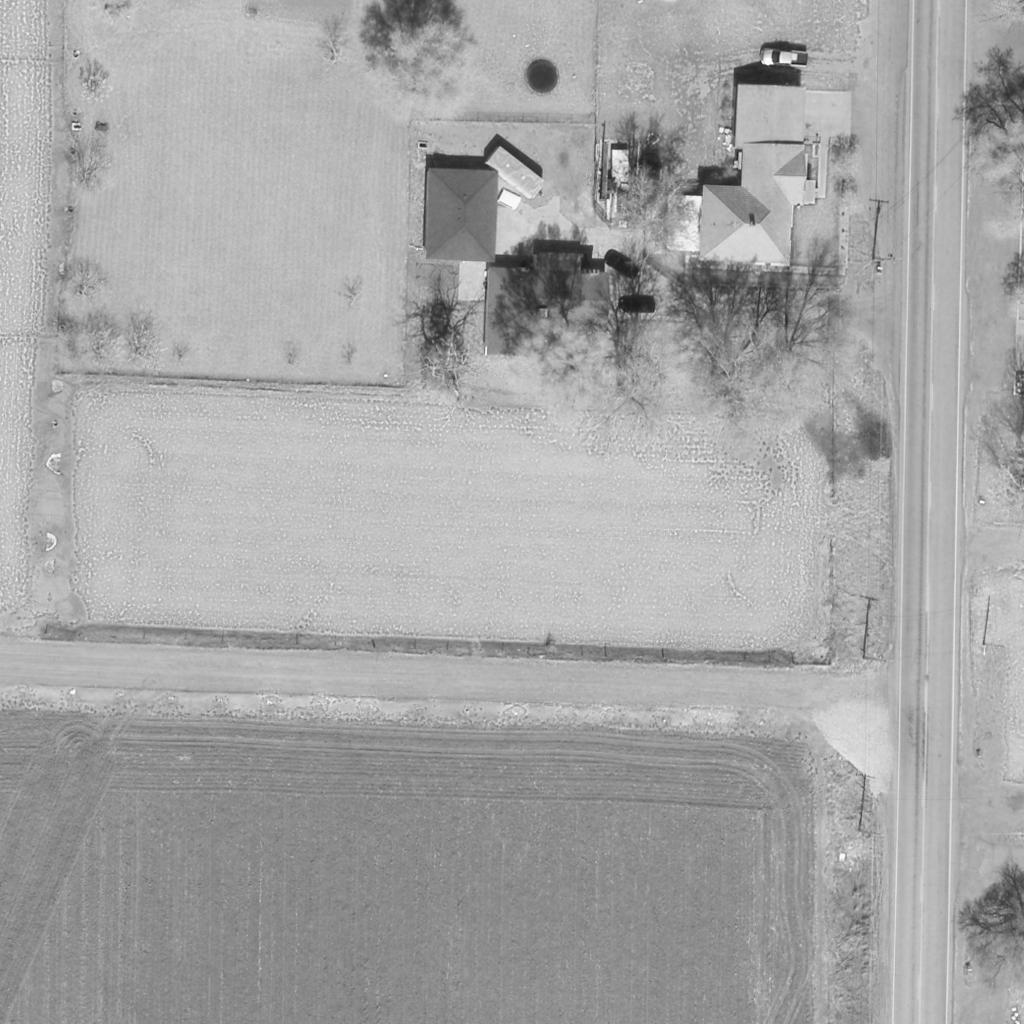vehicle: (486, 148, 548, 200), (602, 248, 644, 280), (757, 48, 813, 70), (616, 297, 656, 313)
